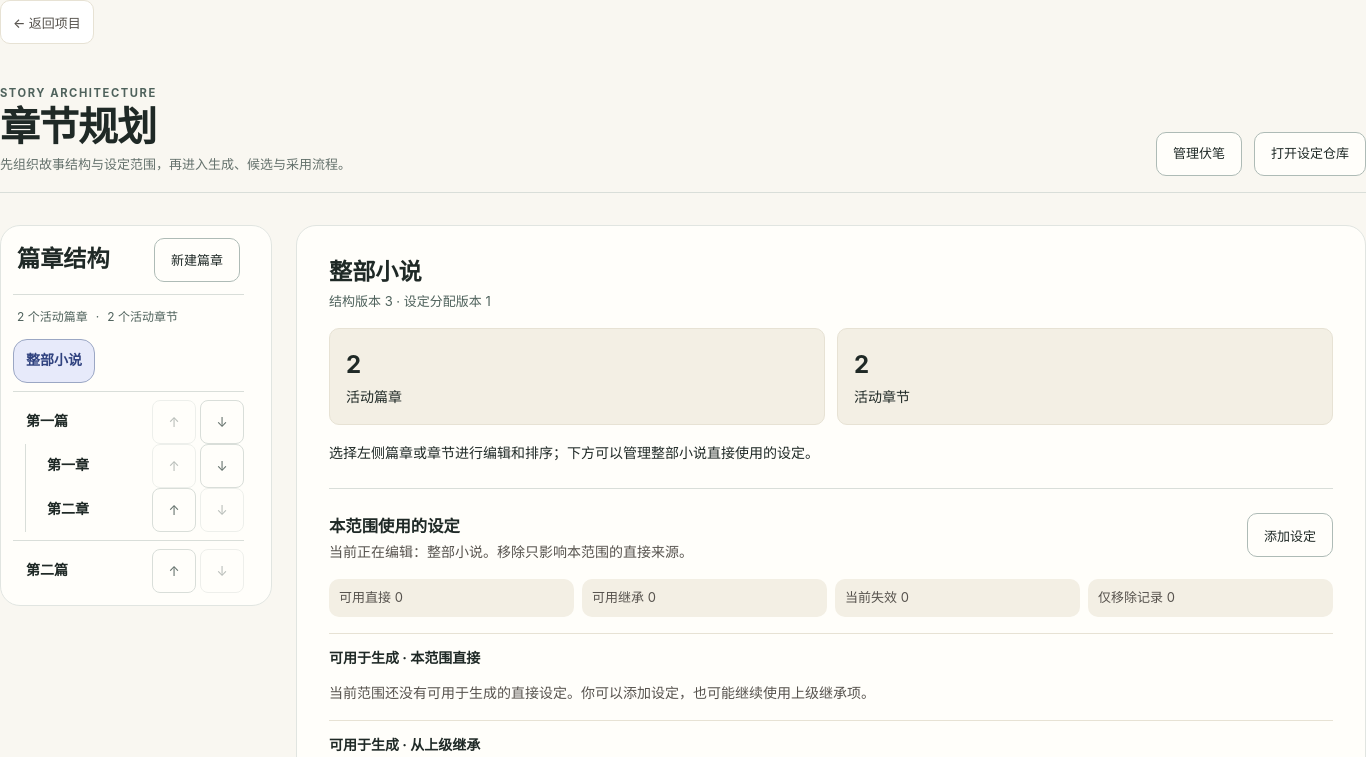
it: ChapterPlanningPage › blocks new writes when a confirmed mutation cannot refresh the authoritative plan
Expected: the text "第一篇" is shown, top-left (26, 412), bottom-right (68, 431)
Click the button "新建篇章" at (197,260), box top-left (154, 238), bottom-right (240, 282)
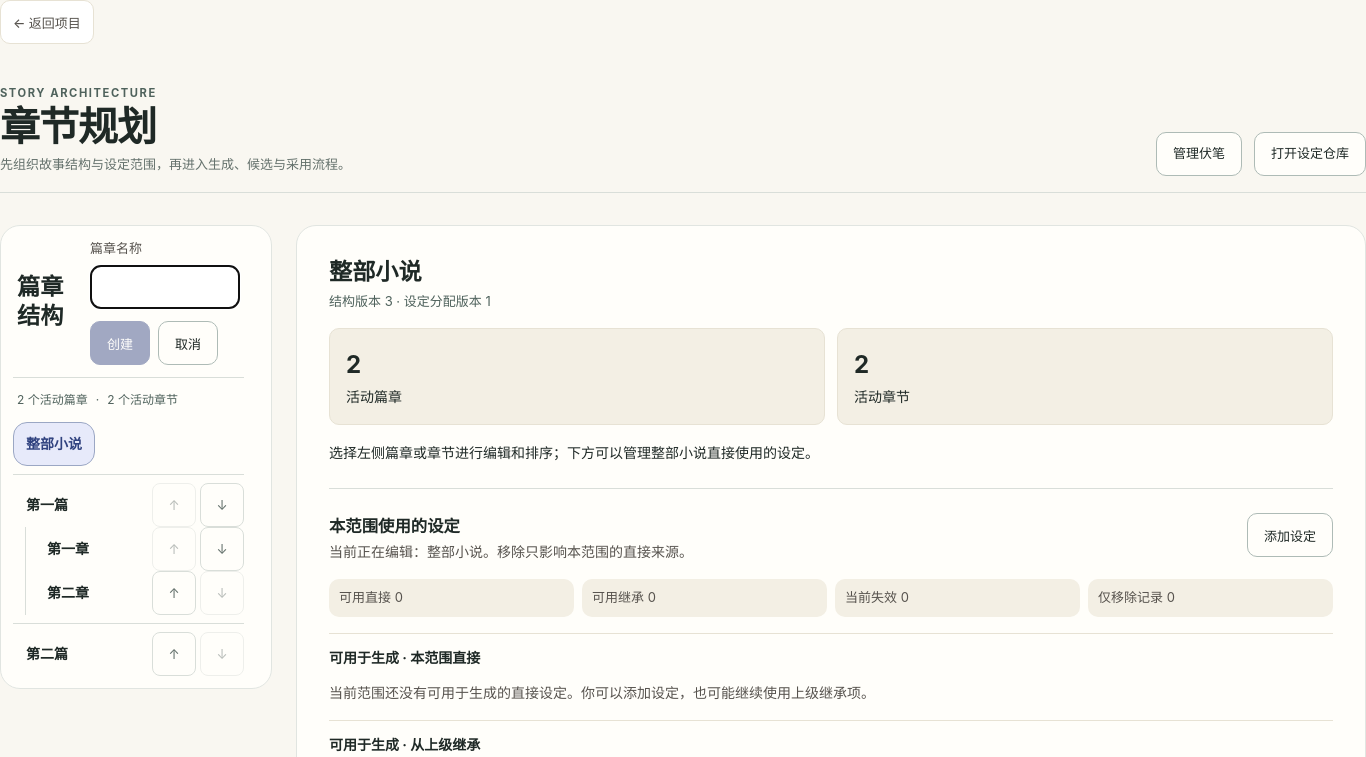
Type "第三篇" into the field labelled "篇章名称" at (165,287), box top-left (90, 265), bottom-right (240, 309)
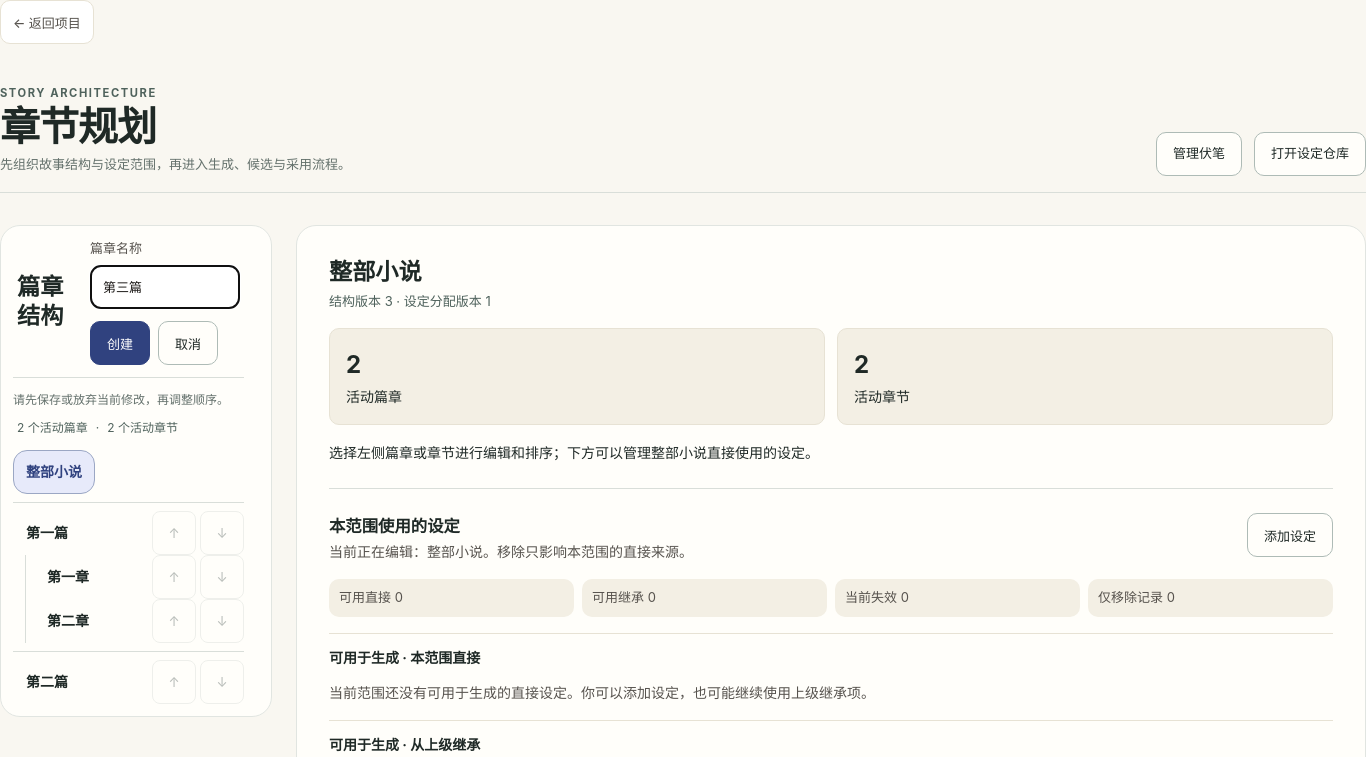
Click the button "创建" at (120,343), box top-left (90, 321), bottom-right (150, 365)
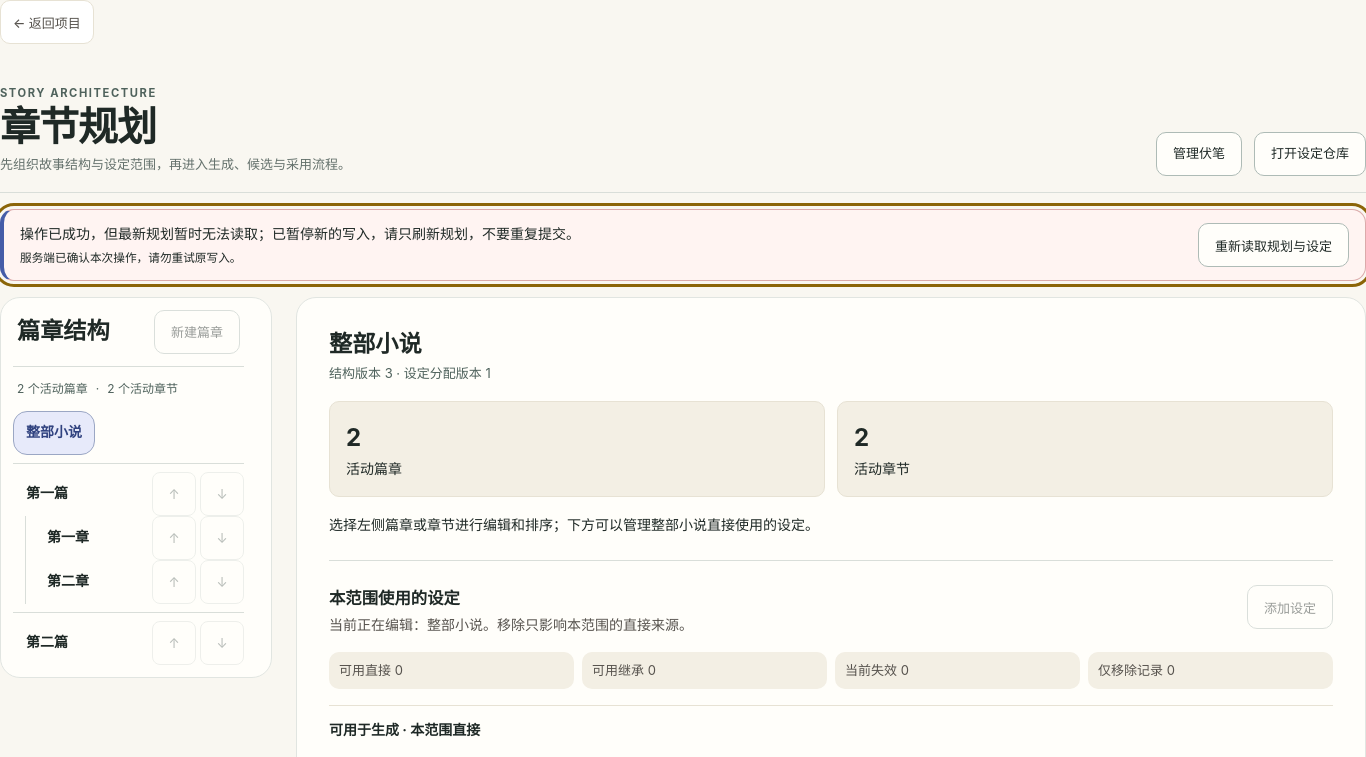
Result: the text "操作已成功，但最新规划暂时无法读取；已暂停新的写入，请只刷新规划，不要重复提交。 服务端已确认本次操作，请勿重试原写入。" is shown at top-left (20, 222), bottom-right (580, 268)
Result: the button "新建篇章" is disabled at top-left (154, 310), bottom-right (240, 354)
